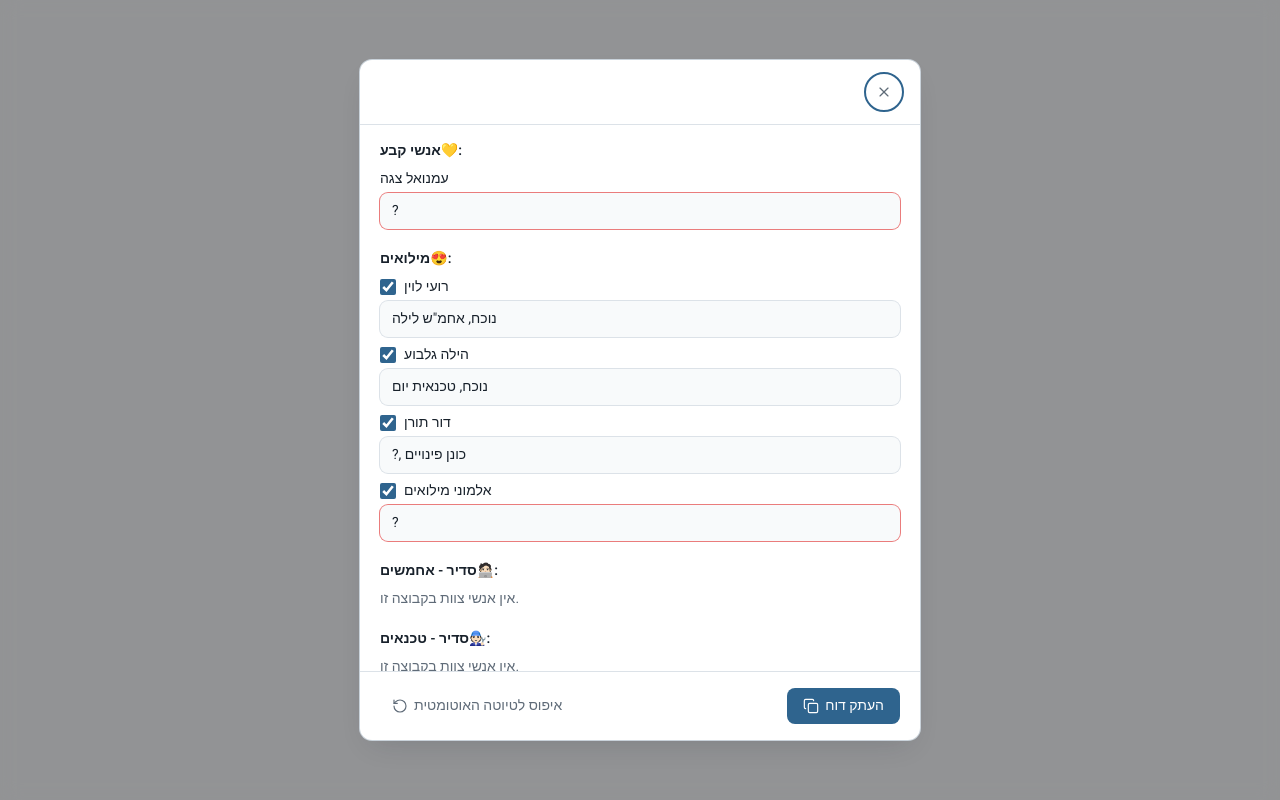
Test case: ReportOneEditorOverlay — reserve inclusion checkbox › 8. unchecking a reserve person with a day shift requires confirmation before persisting
Click the checkbox named "כלול בדוח 1: הילה גלבוע" at (388, 355), box [380,347,396,363]
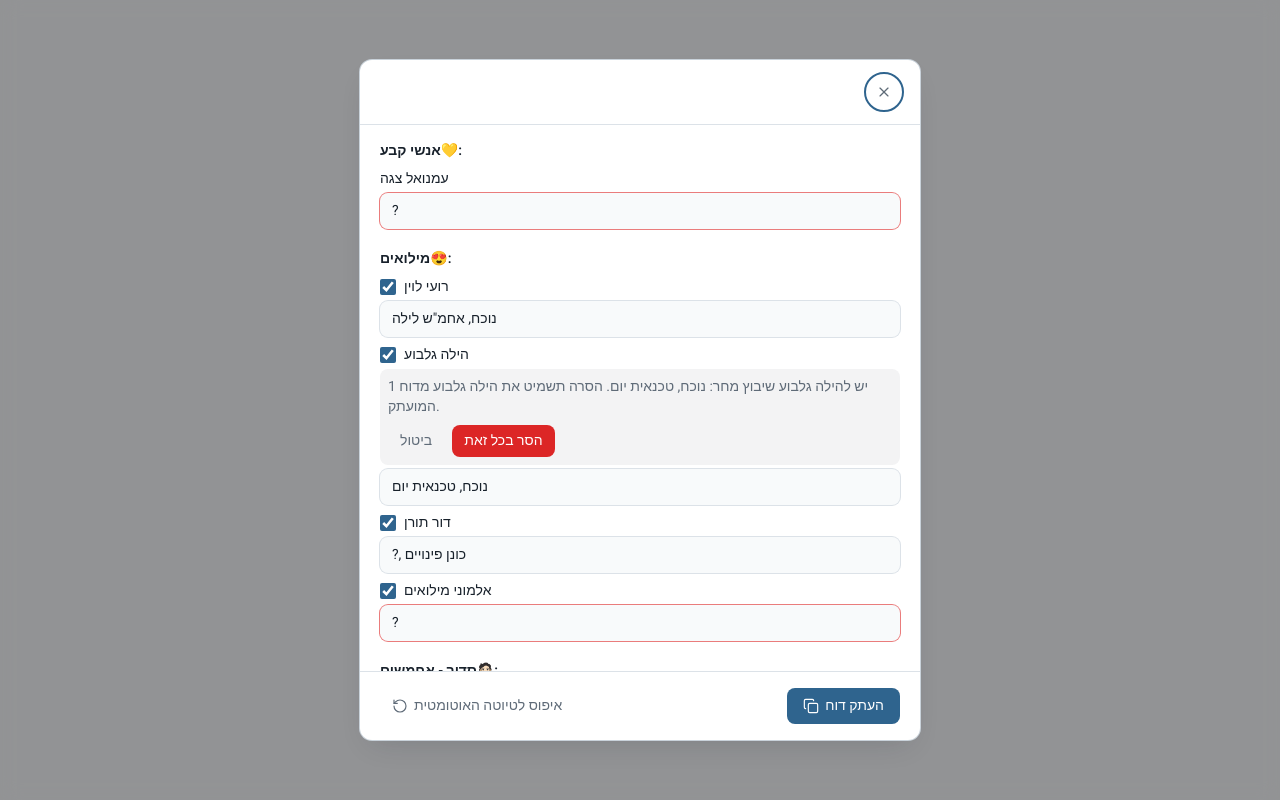
Expected: the button "הסר בכל זאת" is shown, [452,425,554,457]
